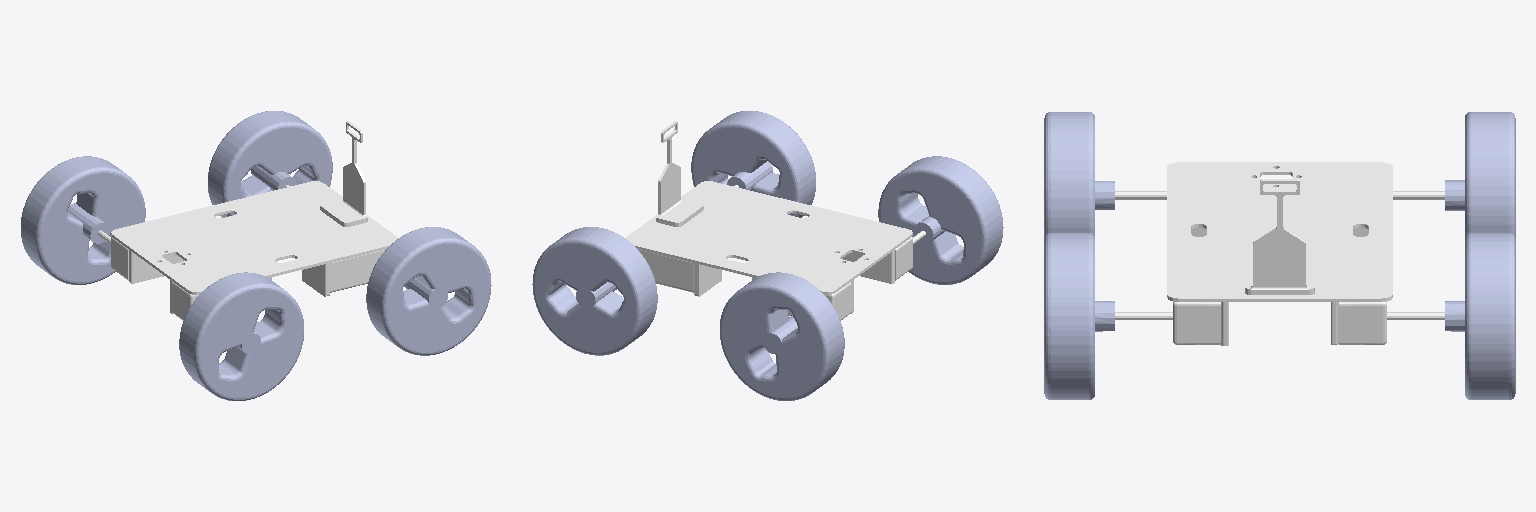
robot.urdf — rover_bot:
<?xml version="1.0" encoding="utf-8"?>
<!-- This URDF was automatically created by SolidWorks to URDF Exporter! Originally created by [author] ([email redacted]) 
     Commit Version: 1.6.0-4-g7f85cfe  Build Version: 1.6.7995.38578
     For more information, please see http://wiki.ros.org/sw_urdf_exporter -->
<robot
  name="rover_bot">
  <link
    name="base_link">
    <inertial>
      <origin
        xyz="0.0104893096012664 -8.00198228761984E-05 -0.0357153681760934"
        rpy="0 0 0" />
      <mass
        value="6.45991309949141" />
      <inertia
        ixx="0.0300351387274575"
        ixy="2.2045257058922E-05"
        ixz="-0.00170496002630326"
        iyy="0.0672051143318267"
        iyz="-8.20582621481795E-06"
        izz="0.0889964768947195" />
    </inertial>
    <visual>
      <origin
        xyz="0 0 0"
        rpy="0 0 0" />
      <geometry>
        <mesh
          filename="package://rover_bot/meshes/base_link.STL" />
      </geometry>
      <material
        name="">
        <color
          rgba="1 1 1 1" />
      </material>
    </visual>
    <collision>
      <origin
        xyz="0 0 0"
        rpy="0 0 0" />
      <geometry>
        <mesh
          filename="package://rover_bot/meshes/base_link.STL" />
      </geometry>
    </collision>
  </link>
  <link
    name="right_f_link">
    <inertial>
      <origin
        xyz="0 0.0412058764495742 2.77555756156289E-17"
        rpy="0 0 0" />
      <mass
        value="3.83812310766081" />
      <inertia
        ixx="0.0201771651113375"
        ixy="5.31970947087293E-19"
        ixz="-0.000651438846830695"
        iyy="0.0352113922978309"
        iyz="-3.55580851430285E-19"
        izz="0.0192649208028526" />
    </inertial>
    <visual>
      <origin
        xyz="0 0 0"
        rpy="0 0 0" />
      <geometry>
        <mesh
          filename="package://rover_bot/meshes/right_f_link.STL" />
      </geometry>
      <material
        name="">
        <color
          rgba="0.792156862745098 0.819607843137255 0.933333333333333 1" />
      </material>
    </visual>
    <collision>
      <origin
        xyz="0 0 0"
        rpy="0 0 0" />
      <geometry>
        <mesh
          filename="package://rover_bot/meshes/right_f_link.STL" />
      </geometry>
    </collision>
  </link>
  <joint
    name="joint_1"
    type="continuous">
    <origin
      xyz="0.23047 -0.37087 -0.04445"
      rpy="0 0 0" />
    <parent
      link="base_link" />
    <child
      link="right_f_link" />
    <axis
      xyz="0 -1 0" />
  </joint>
  <link
    name="left_f_Link">
    <inertial>
      <origin
        xyz="-1.04083408558608E-17 0.0706428770980418 -2.77555756156289E-17"
        rpy="0 0 0" />
      <mass
        value="3.8381231076608" />
      <inertia
        ixx="0.0204409294896338"
        ixy="4.35193262552087E-19"
        ixz="-0.000337910300257584"
        iyy="0.0352113922978308"
        iyz="-1.9034995558887E-19"
        izz="0.0190011564245563" />
    </inertial>
    <visual>
      <origin
        xyz="0 0 0"
        rpy="0 0 0" />
      <geometry>
        <mesh
          filename="package://rover_bot/meshes/left_f_Link.STL" />
      </geometry>
      <material
        name="">
        <color
          rgba="0.792156862745098 0.819607843137255 0.933333333333333 1" />
      </material>
    </visual>
    <collision>
      <origin
        xyz="0 0 0"
        rpy="0 0 0" />
      <geometry>
        <mesh
          filename="package://rover_bot/meshes/left_f_Link.STL" />
      </geometry>
    </collision>
  </link>
  <joint
    name="joint_2"
    type="continuous">
    <origin
      xyz="0.23047 0.25887 -0.04445"
      rpy="0 0 0" />
    <parent
      link="base_link" />
    <child
      link="left_f_Link" />
    <axis
      xyz="0 1 0" />
  </joint>
  <link
    name="right_b_Link">
    <inertial>
      <origin
        xyz="5.55111512312578E-17 0.0412058764495742 2.77555756156289E-17"
        rpy="0 0 0" />
      <mass
        value="3.83812310766081" />
      <inertia
        ixx="0.0199129886379947"
        ixy="2.59127994265787E-18"
        ixz="0.000771736254386727"
        iyy="0.0352113922978309"
        iyz="-1.08623972730593E-18"
        izz="0.0195290972761954" />
    </inertial>
    <visual>
      <origin
        xyz="0 0 0"
        rpy="0 0 0" />
      <geometry>
        <mesh
          filename="package://rover_bot/meshes/right_b_Link.STL" />
      </geometry>
      <material
        name="">
        <color
          rgba="0.792156862745098 0.819607843137255 0.933333333333333 1" />
      </material>
    </visual>
    <collision>
      <origin
        xyz="0 0 0"
        rpy="0 0 0" />
      <geometry>
        <mesh
          filename="package://rover_bot/meshes/right_b_Link.STL" />
      </geometry>
    </collision>
  </link>
  <joint
    name="joint_3"
    type="continuous">
    <origin
      xyz="-0.21911 -0.37087 -0.04445"
      rpy="0 0 0" />
    <parent
      link="base_link" />
    <child
      link="right_b_Link" />
    <axis
      xyz="0 -1 0" />
  </joint>
  <link
    name="left_b_Link">
    <inertial>
      <origin
        xyz="0 0.0706428770980418 0"
        rpy="0 0 0" />
      <mass
        value="3.8381231076608" />
      <inertia
        ixx="0.0192036181587909"
        ixy="-2.04184943444368E-18"
        ixz="-0.000603896985297005"
        iyy="0.0352113922978308"
        iyz="1.78538638712692E-18"
        izz="0.0202384677553992" />
    </inertial>
    <visual>
      <origin
        xyz="0 0 0"
        rpy="0 0 0" />
      <geometry>
        <mesh
          filename="package://rover_bot/meshes/left_b_Link.STL" />
      </geometry>
      <material
        name="">
        <color
          rgba="0.792156862745098 0.819607843137255 0.933333333333333 1" />
      </material>
    </visual>
    <collision>
      <origin
        xyz="0 0 0"
        rpy="0 0 0" />
      <geometry>
        <mesh
          filename="package://rover_bot/meshes/left_b_Link.STL" />
      </geometry>
    </collision>
  </link>
  <joint
    name="joint_4"
    type="continuous">
    <origin
      xyz="-0.219108944993308 0.258870197777996 -0.04445"
      rpy="0 0 0" />
    <parent
      link="base_link" />
    <child
      link="left_b_Link" />
    <axis
      xyz="0 1 0" />
  </joint>
</robot>

--- Render facts (derived) ---
3 views of the same robot in one strip: view 1: azimuth 30°, elevation 25°; view 2: azimuth 150°, elevation 25°; view 3: azimuth 270°, elevation 25° (orthographic).
Robot: rover_bot — 5 links, 4 joints (4 continuous); root link base_link; default pose: every joint at zero.
Links seen in each view (by area): view 1: base_link, right_f_link, right_b_Link, left_b_Link, left_f_Link; view 2: base_link, left_f_Link, left_b_Link, right_b_Link, right_f_link; view 3: base_link, left_f_Link, right_f_link, left_b_Link, right_b_Link.
Link boxes in pixels (<box>): base_link: <box>98,121,398,320</box>; right_f_link: <box>366,227,491,355</box>; right_b_Link: <box>179,272,303,400</box>; left_b_Link: <box>21,156,145,284</box>; left_f_Link: <box>208,111,332,217</box>; base_link: <box>625,121,925,320</box>; left_f_Link: <box>532,227,657,355</box>; left_b_Link: <box>720,272,844,400</box>; right_b_Link: <box>878,156,1003,284</box>; right_f_link: <box>691,111,815,217</box>; base_link: <box>1115,162,1444,345</box>; left_f_Link: <box>1445,233,1515,399</box>; right_f_link: <box>1044,233,1114,399</box>; left_b_Link: <box>1445,112,1515,238</box>; right_b_Link: <box>1044,112,1114,238</box>.
Bounding box of the posed robot: 0.7131 × 0.7401 × 0.3741 m (x, y, z).
Meshes: 5 distinct files referenced, 5 mesh visuals loaded (5 binary STL).